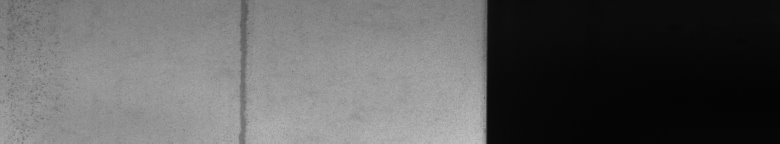hd: (232, 4, 252, 136)
